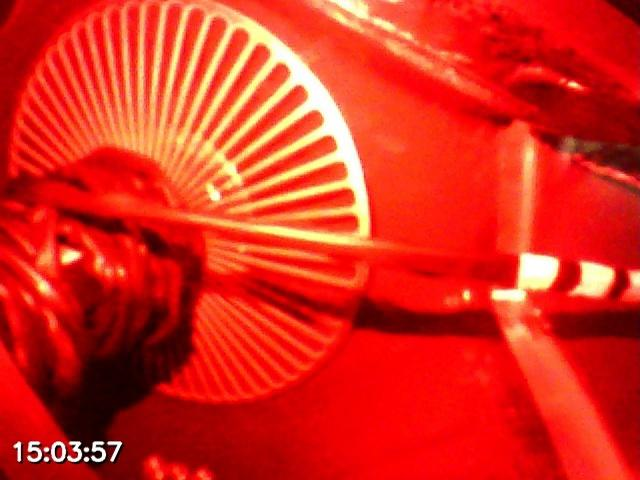white-dots: (518, 251, 640, 303)
